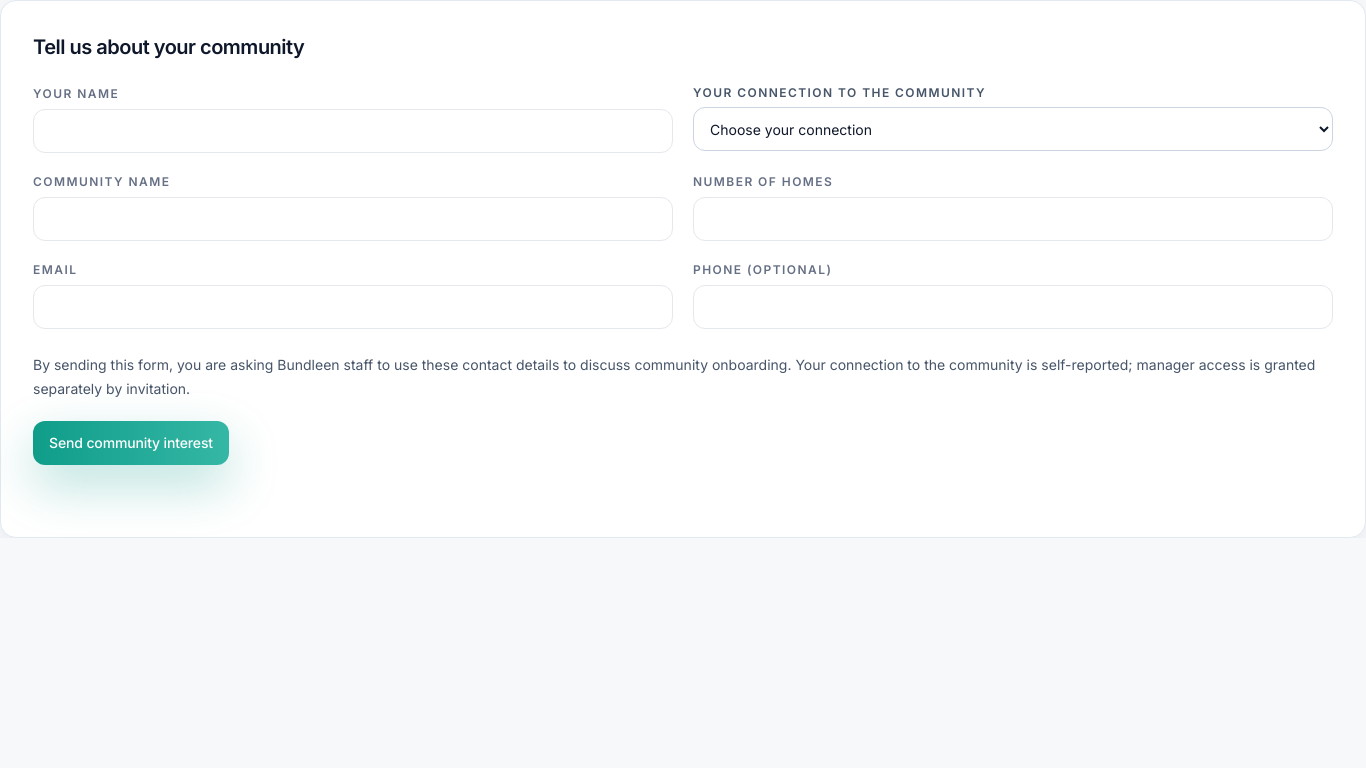
public community interest form › attaches safe server field errors without reflecting injected field names
The width and height of the screenshot is (1366, 768).
Type " Jane Smith " into the field labelled "Your name" at (353, 131), box [46,110,660,152]
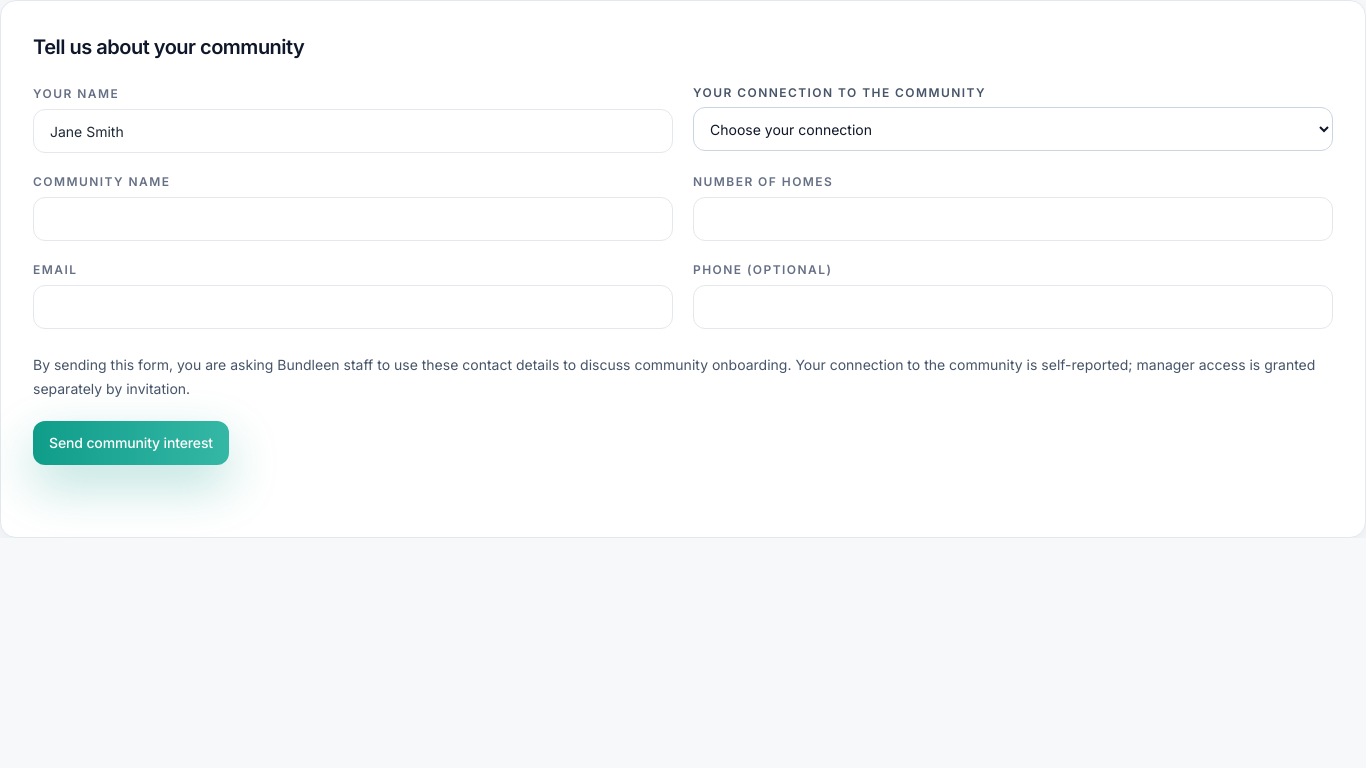
Type "Oakwood HOA" into the field labelled "Community name" at (353, 219), box [46,198,660,240]
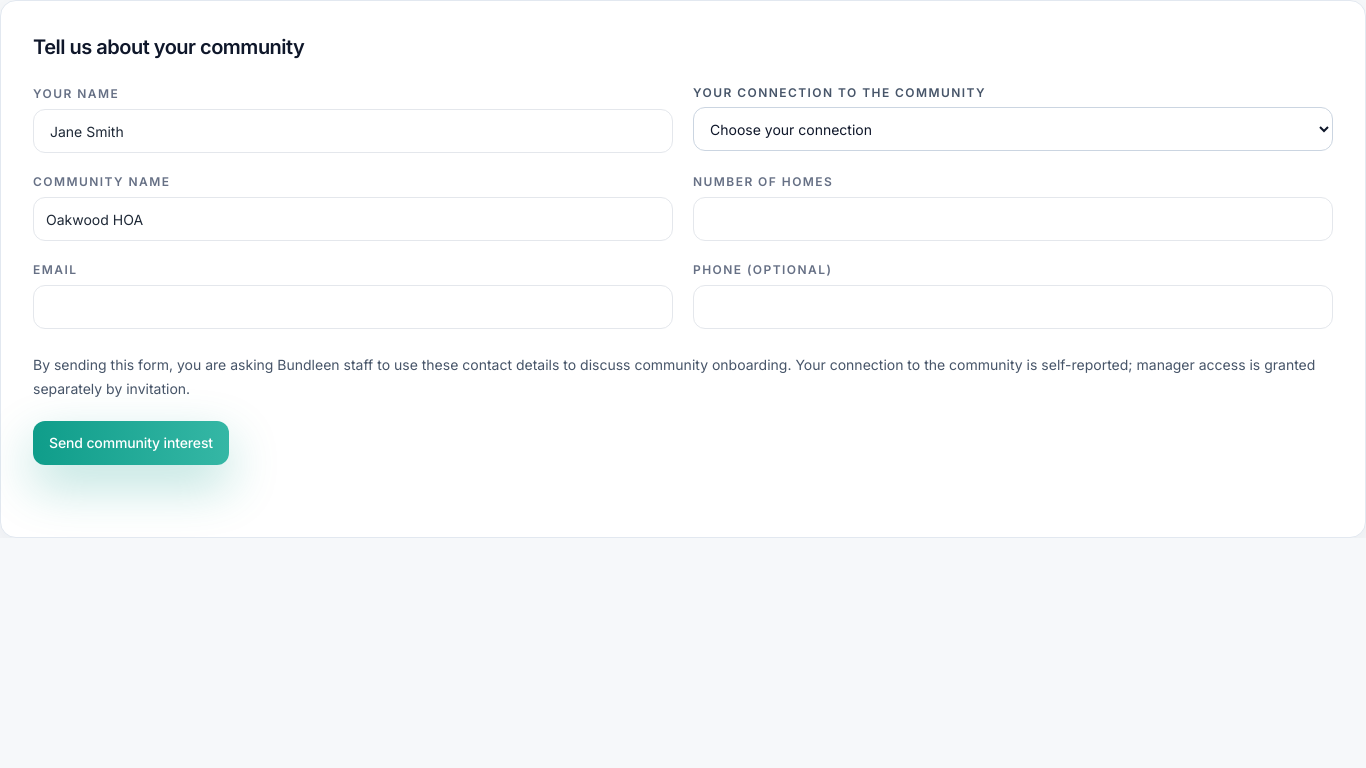
Type "75" into the field labelled "Number of homes" at (1013, 219), box [706,198,1320,240]
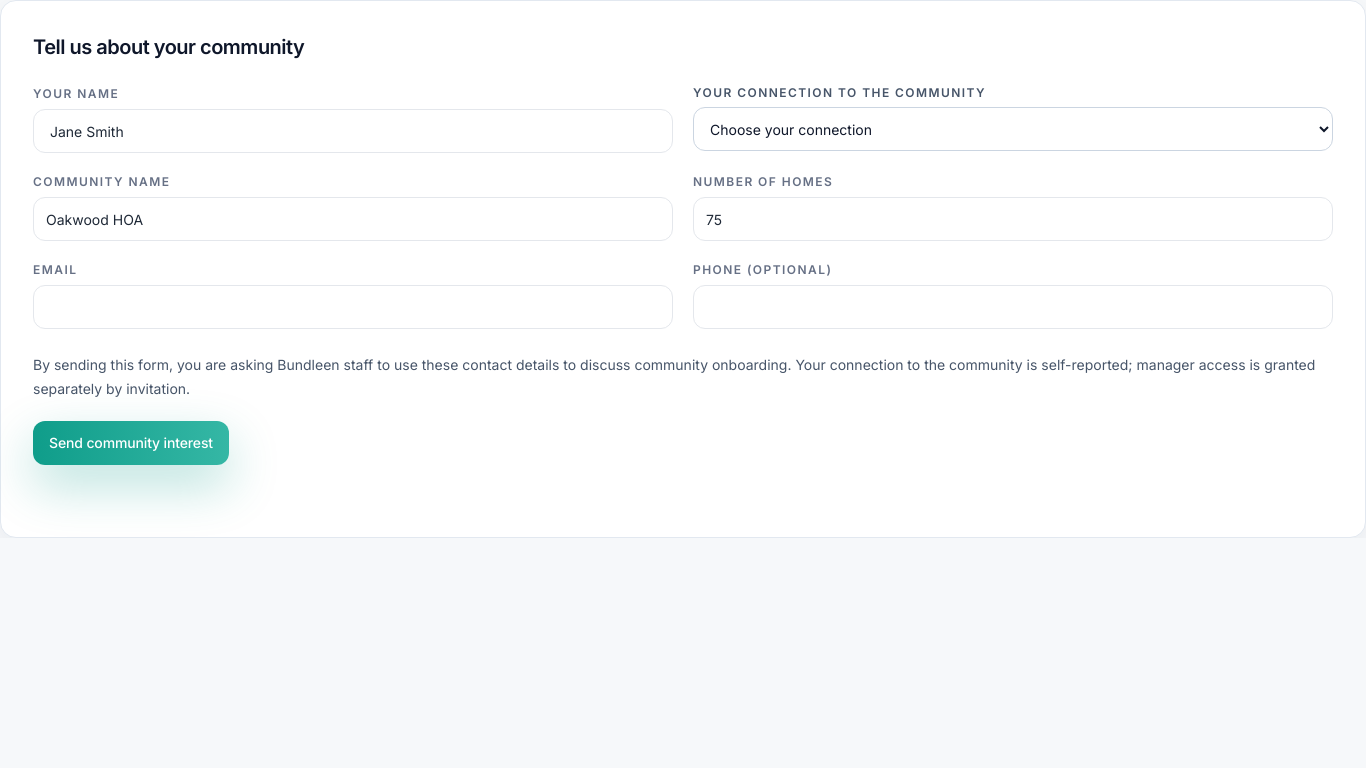
Type " JANE@EXAMPLE.INVALID " into the field labelled "Email" at (353, 307), box [46,286,660,328]
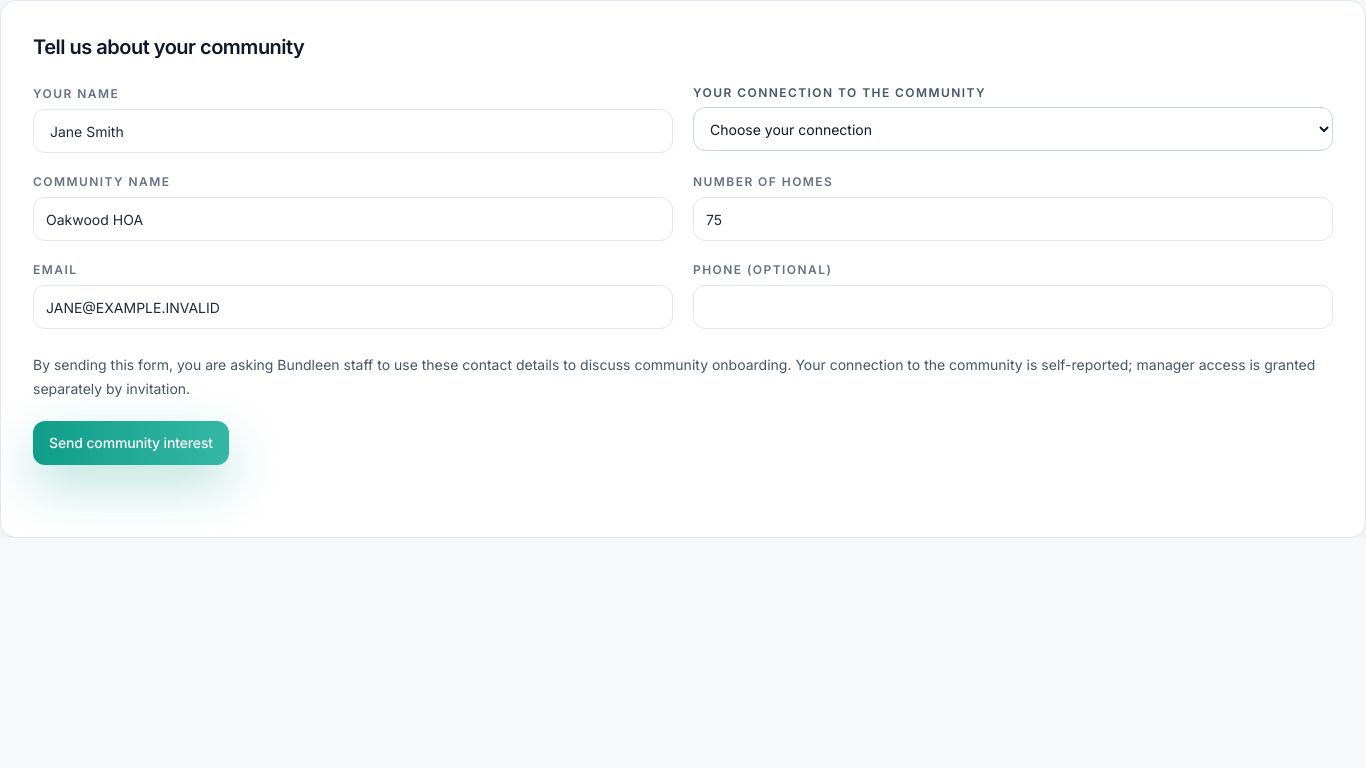
Select "Community manager" in the dropdown labelled "Your connection to the community" at (1013, 129), box [693,107,1333,151]
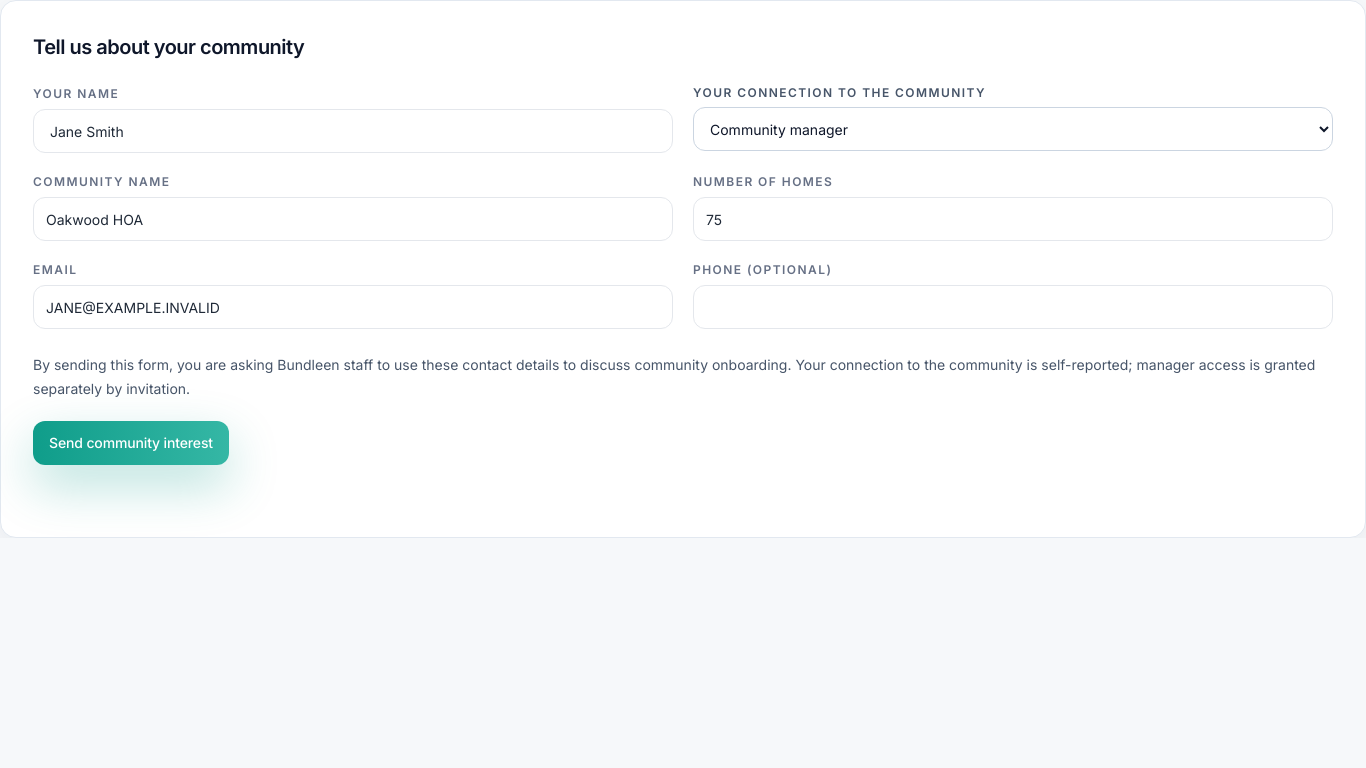
Click the button "Send community interest" at (131, 443), box [33,421,229,465]
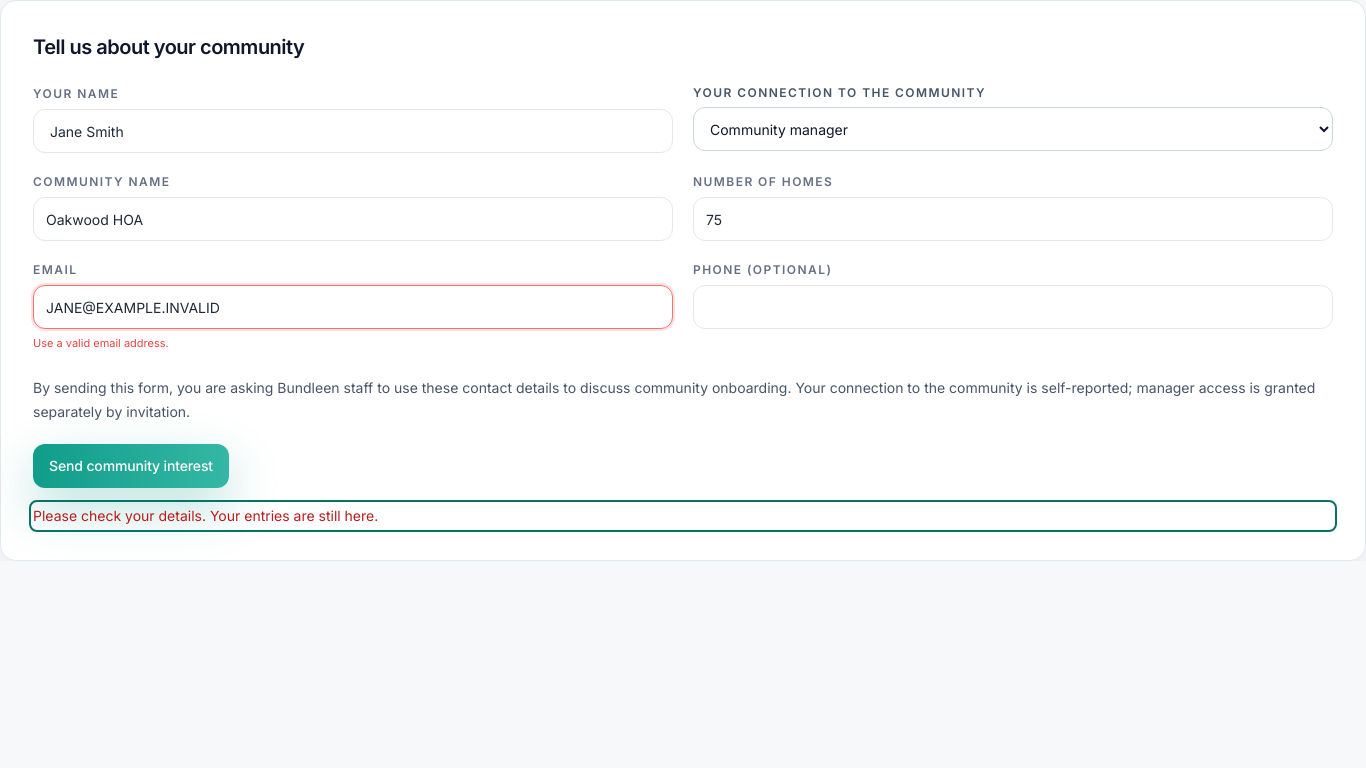
Now the text "Use a valid email address." is shown, box [33,336,169,350]
